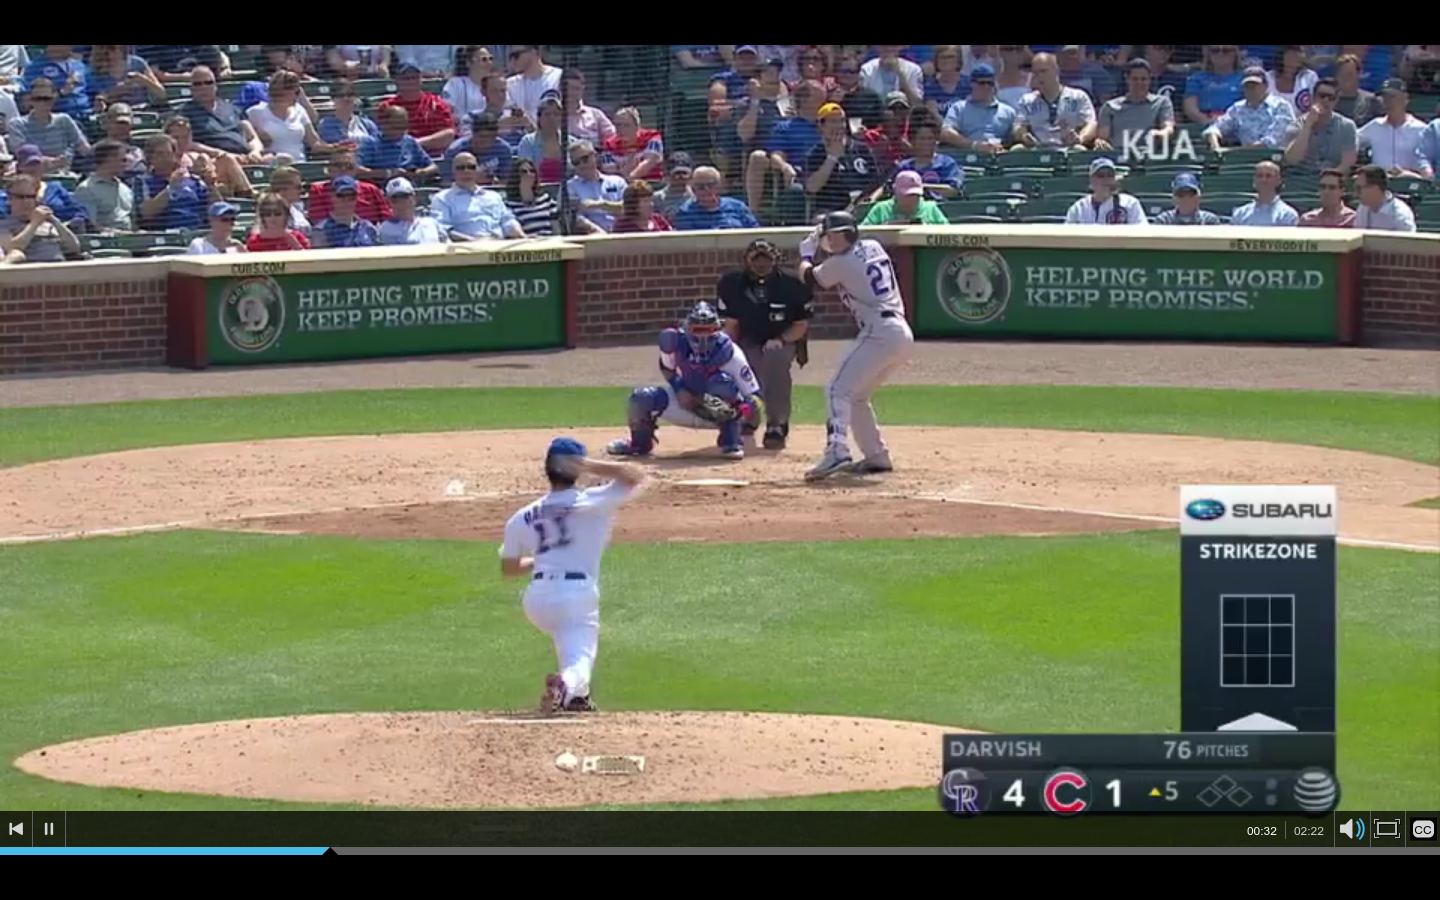baseball bat: (845, 165, 901, 212)
baseball player: (481, 432, 653, 719), (792, 216, 907, 491), (608, 302, 758, 465)
referee: (713, 242, 813, 459)
